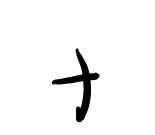plus: (49, 47, 100, 118)
